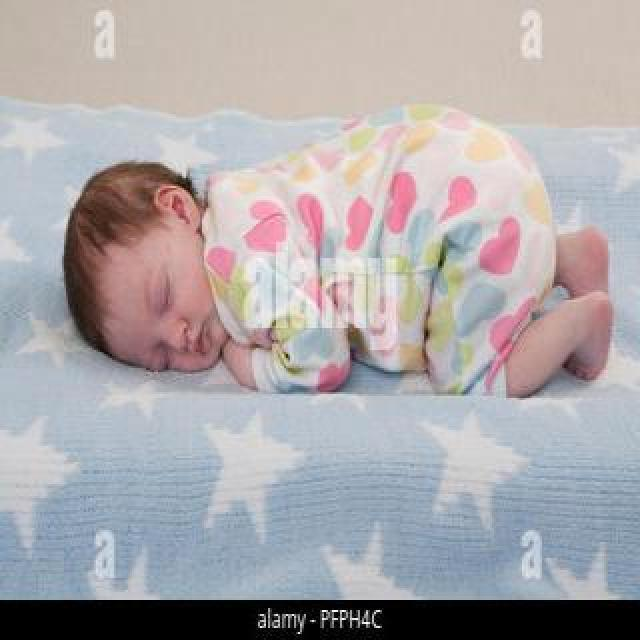baby: (60, 93, 612, 397)
